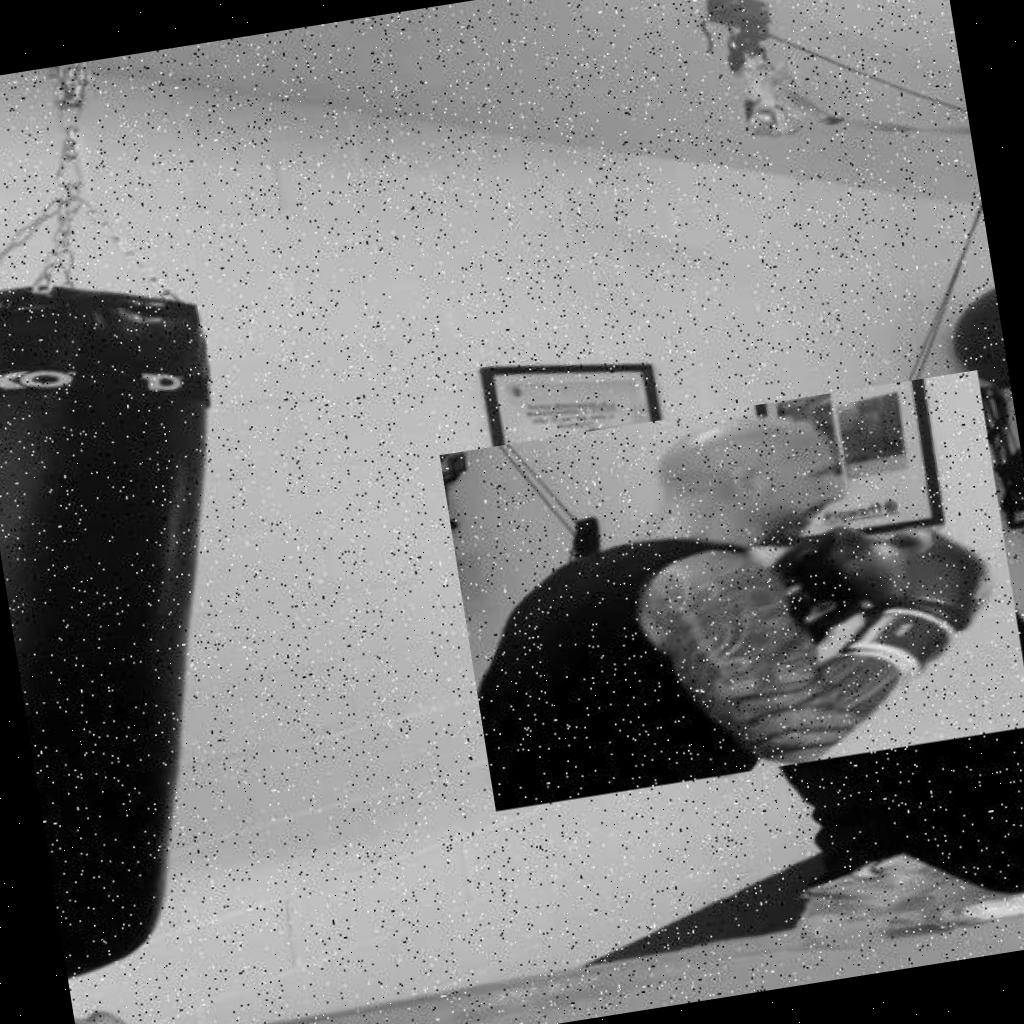bag: (0, 246, 291, 992)
no punch: (439, 370, 1024, 811)
